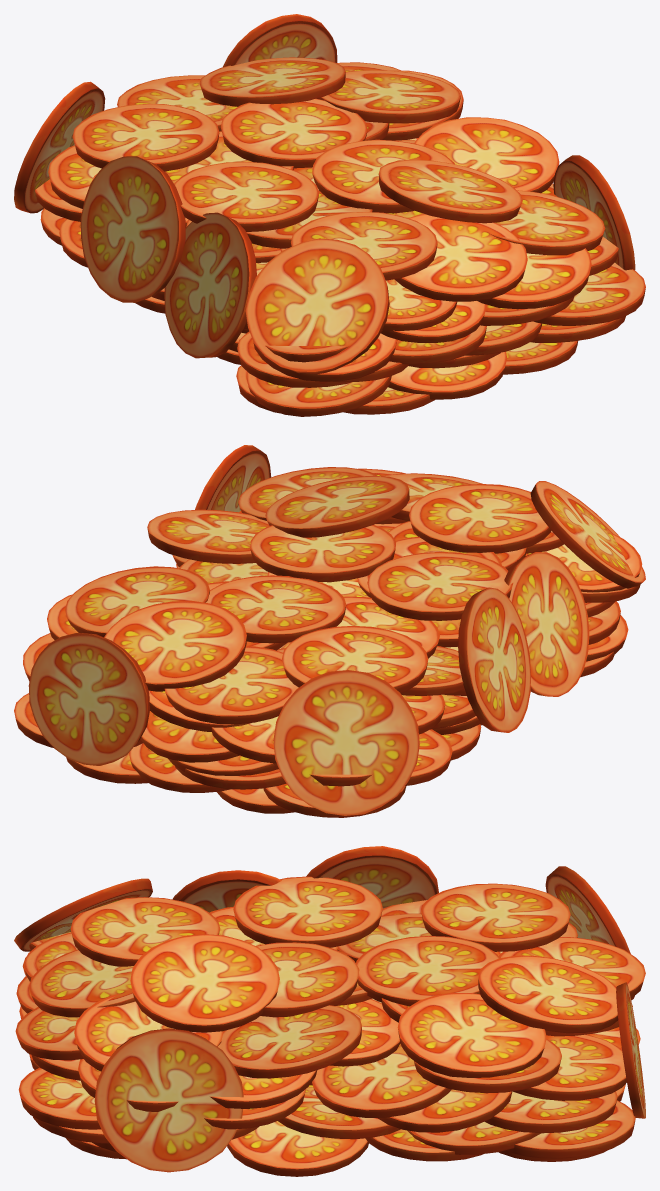
Rendered from domatesler.fbx.
The picture shows the model from 3 angles, top to bottom: view 1: azimuth 30°, elevation 25°; view 2: azimuth 150°, elevation 25°; view 3: azimuth 270°, elevation 25°; orthographic projection.
Visible parts, largest first — view 1: domatesler; view 2: domatesler; view 3: domatesler.
Boxes of the visible parts, box(x1,y1,x2,y2) form: domatesler: box(14, 14, 645, 416); domatesler: box(14, 445, 645, 817); domatesler: box(14, 846, 645, 1176).
Bounding box in the file's own units: 55.74 × 21.37 × 74.42.
